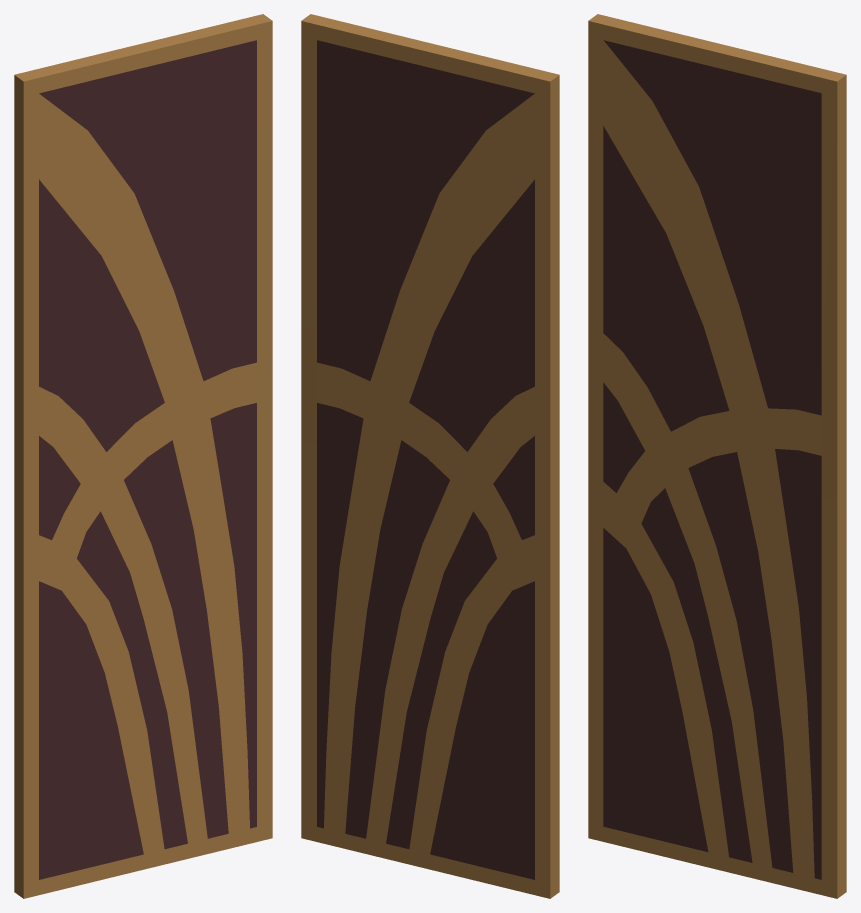
The model's file is SM_Bld_Elevator_01_Door_L.obj.
The picture shows the model from 3 angles, left to right: view 1: azimuth 30°, elevation 25°; view 2: azimuth 150°, elevation 25°; view 3: azimuth 330°, elevation 25°; orthographic projection.
Visible parts, largest first — view 1: SM_Bld_Elevator_01_Door_L_0; view 2: SM_Bld_Elevator_01_Door_L_0; view 3: SM_Bld_Elevator_01_Door_L_0.
Boxes of the visible parts, x1,y1,x2,y2 form: SM_Bld_Elevator_01_Door_L_0: [14, 14, 272, 898]; SM_Bld_Elevator_01_Door_L_0: [301, 14, 559, 898]; SM_Bld_Elevator_01_Door_L_0: [588, 14, 846, 898].
Size of the model in its own units: 0.7449 by 2.34 by 0.0489.
Materials: 1 (1 with a texture image).
